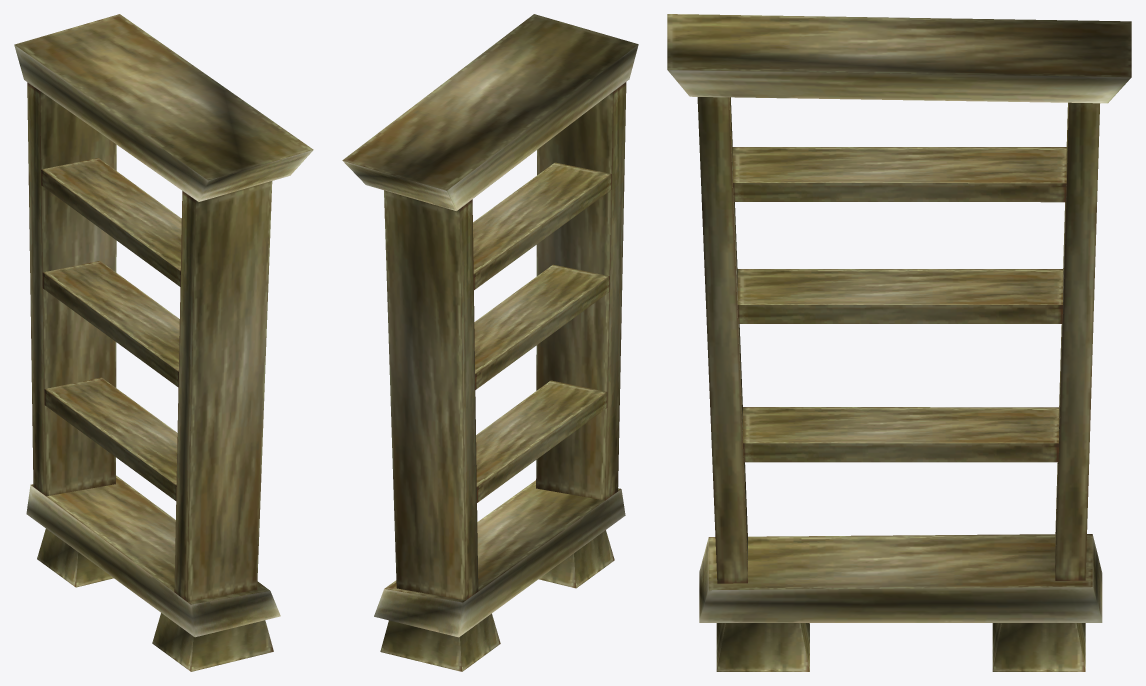
File: duskwoodbookshelf01.obj
3 views of the same model, side by side, from view 1: azimuth 30°, elevation 25°; view 2: azimuth 150°, elevation 25°; view 3: azimuth 270°, elevation 25° (orthographic). The views are drawn at different scales.
Parts seen in each view (by area): view 1: duskwoodbookshelf01.m2; view 2: duskwoodbookshelf01.m2; view 3: duskwoodbookshelf01.m2.
Boxes of the visible parts, x1=… form: duskwoodbookshelf01.m2: x1=14, y1=14, x2=313, y2=671; duskwoodbookshelf01.m2: x1=342, y1=14, x2=638, y2=671; duskwoodbookshelf01.m2: x1=667, y1=14, x2=1131, y2=671.
Size of the model in its own units: 0.883 by 4.09 by 2.81.
1 material, 1 textured.
